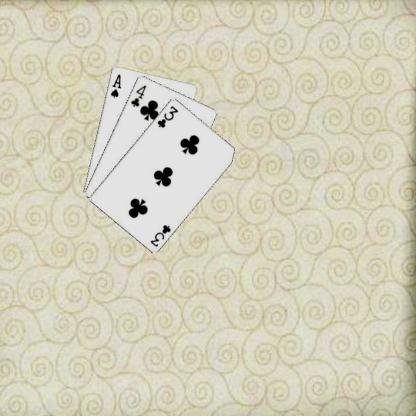3C: (155, 103, 179, 129), (148, 222, 172, 248)
4C: (128, 82, 148, 108)
AS: (108, 71, 122, 99)
